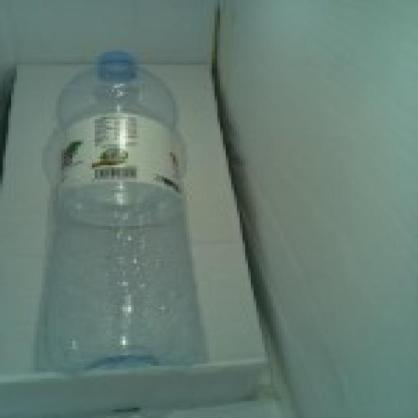bottle: (27, 30, 228, 394)
label: (62, 120, 198, 191)
